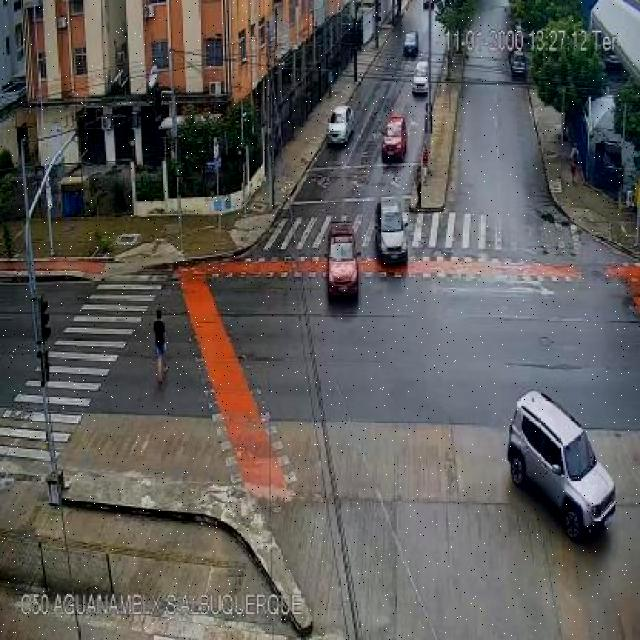Car: (498, 387, 622, 546), (369, 193, 422, 274), (319, 217, 362, 305), (375, 96, 415, 166), (502, 36, 543, 83), (324, 101, 357, 152), (406, 55, 442, 101), (395, 31, 426, 60)
